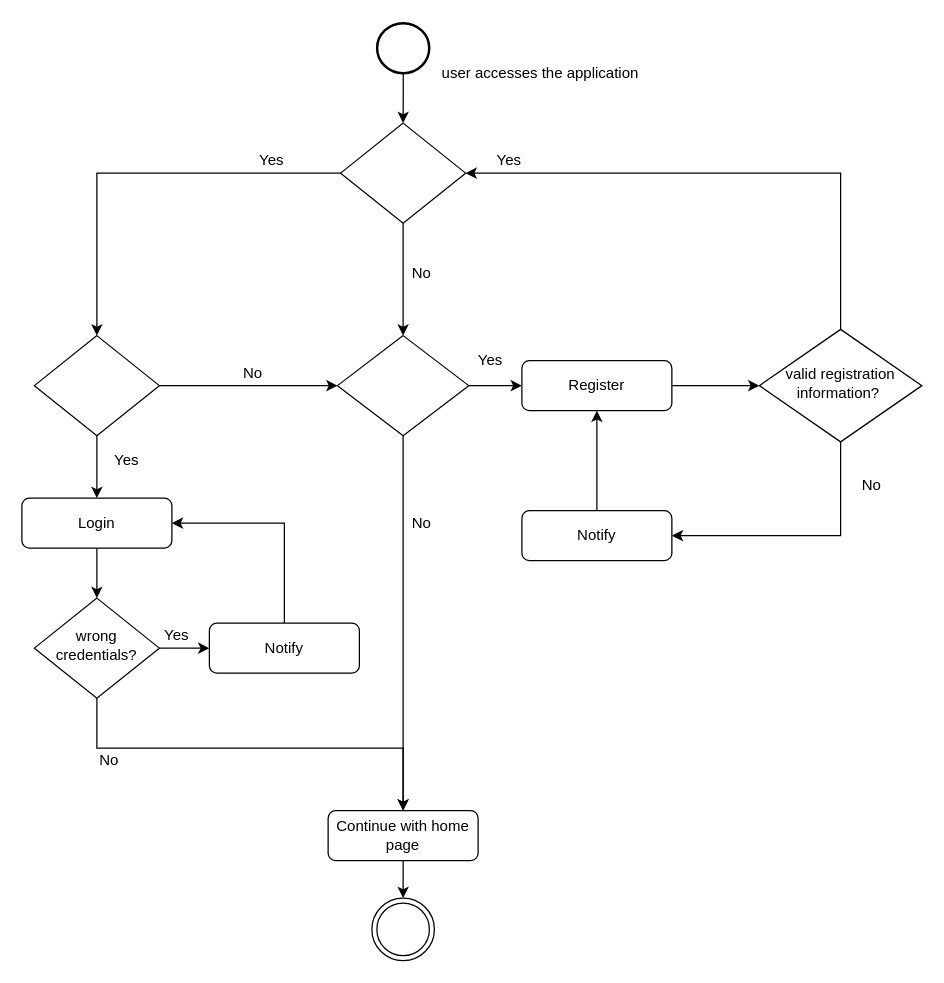
The diagram is 944 pixels wide and 983 high, and some of its shapes have lost their labels. The shapes that lost their labels are listed below. From the top down, each one's centre as x and y in pixels, then its label:
point (402, 172): want to log in?
point (96, 385): have an account?
point (402, 385): want to register?
